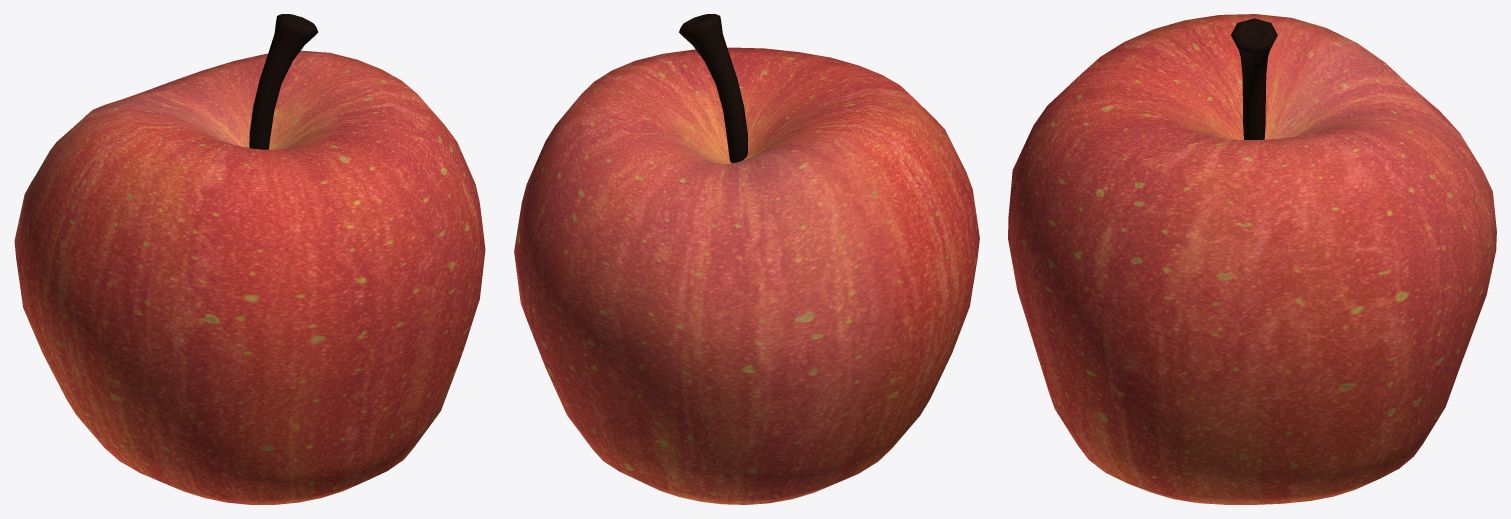
File: Apple.fbx
3 renders of one model, left to right at view 1: azimuth 30°, elevation 25°; view 2: azimuth 150°, elevation 25°; view 3: azimuth 270°, elevation 25°, orthographic. The views are drawn at different scales.
Parts seen in each view (by area): view 1: Sphere, Cube; view 2: Sphere, Cube; view 3: Sphere, Cube.
Part boxes in pixels (x1,y1,x2,y2): Sphere: [14, 50, 485, 504]; Cube: [249, 14, 318, 149]; Sphere: [514, 47, 979, 504]; Cube: [679, 14, 747, 163]; Sphere: [1008, 14, 1496, 504]; Cube: [1231, 18, 1277, 139].
Size of the model in its own units: 3.76 by 3.82 by 3.76.
Materials: 2 (1 with a texture image).
